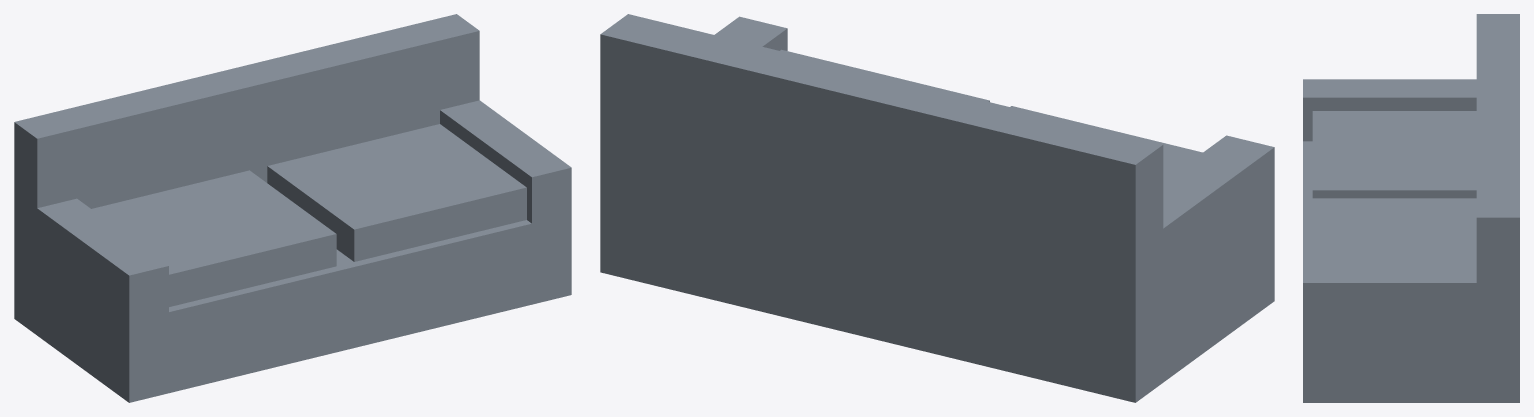
The model's file is sofa.glb.
The picture shows the model from 3 angles, left to right: view 1: azimuth 30°, elevation 25°; view 2: azimuth 150°, elevation 25°; view 3: azimuth 270°, elevation 25°; orthographic projection. The views are drawn at different scales.
Parts seen in each view (by area): view 1: sofa; view 2: sofa; view 3: sofa.
Boxes of the visible parts, <box> form: sofa: <box>14,14,571,402</box>; sofa: <box>600,14,1274,402</box>; sofa: <box>1303,14,1519,402</box>.
Size of the model in its own units: 2 by 0.85 by 0.9.
